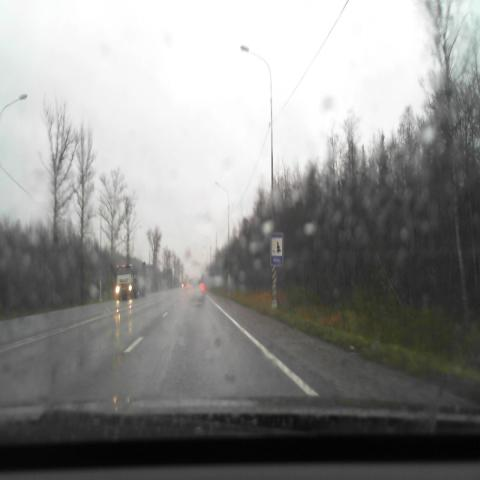7_11: (270, 232, 284, 266)
